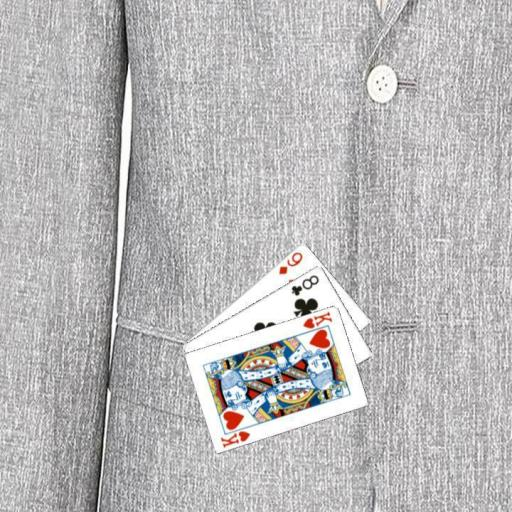card-corner: (288, 272, 321, 297), (276, 248, 304, 276), (300, 308, 334, 330), (218, 427, 252, 449)
